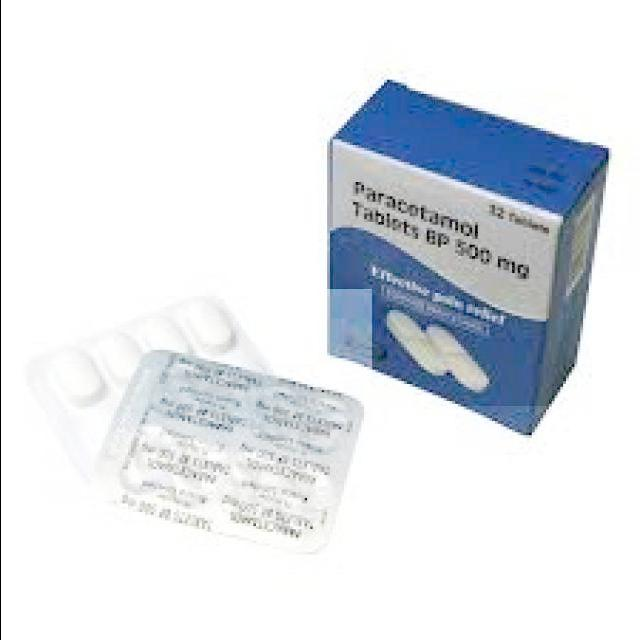authentic: (316, 66, 640, 406), (18, 289, 372, 568)
